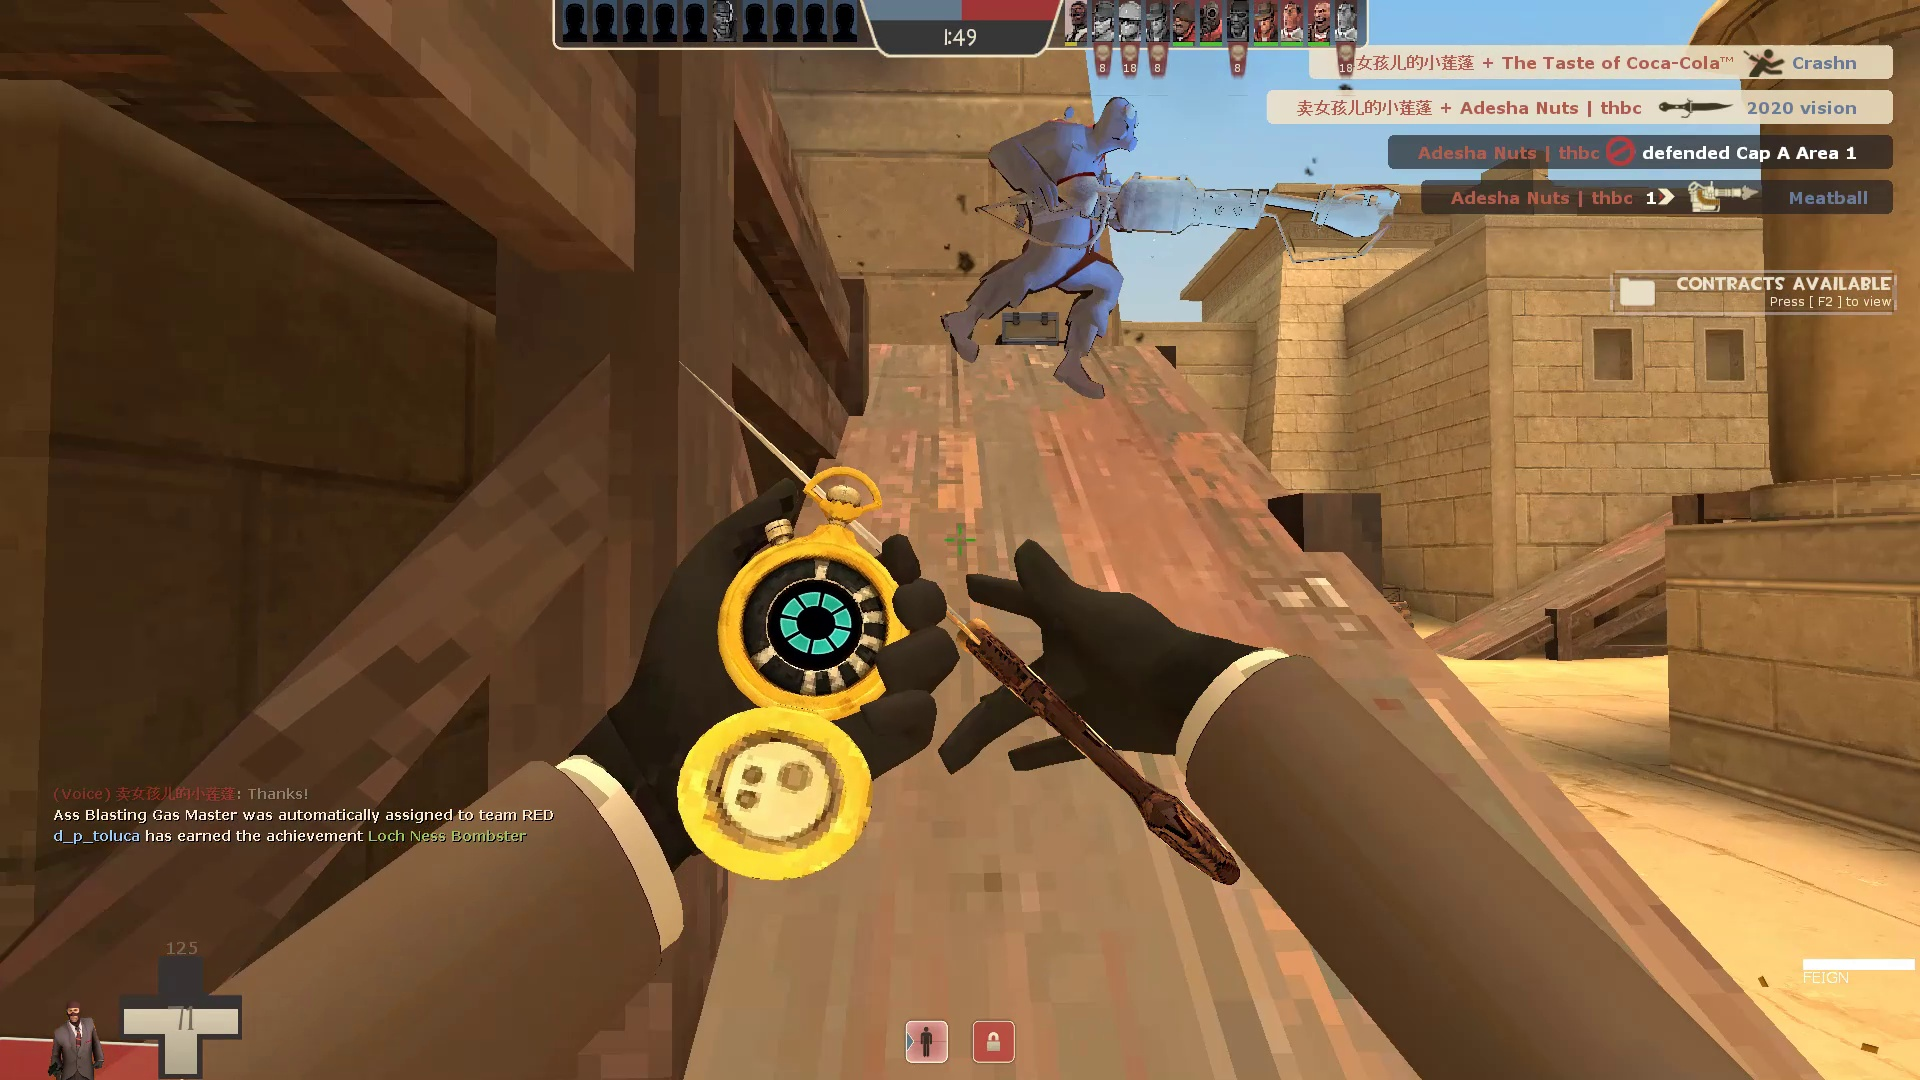blu_spy_invisible: (924, 78, 1408, 430)
